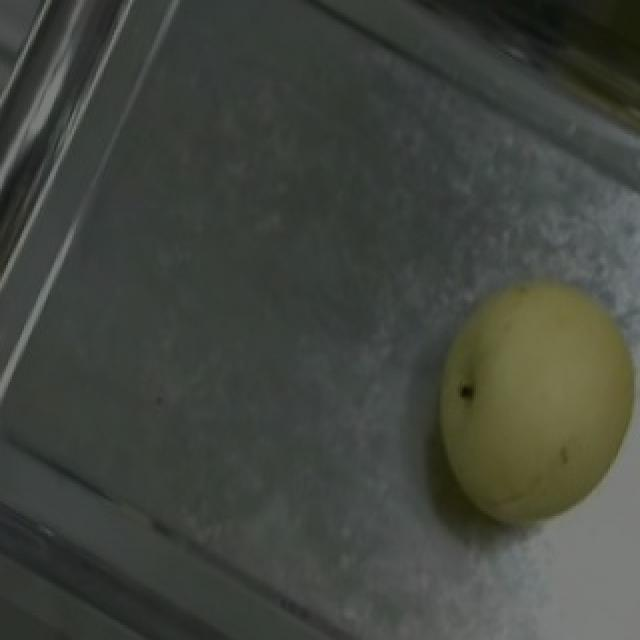Fruit: (390, 241, 640, 553)
